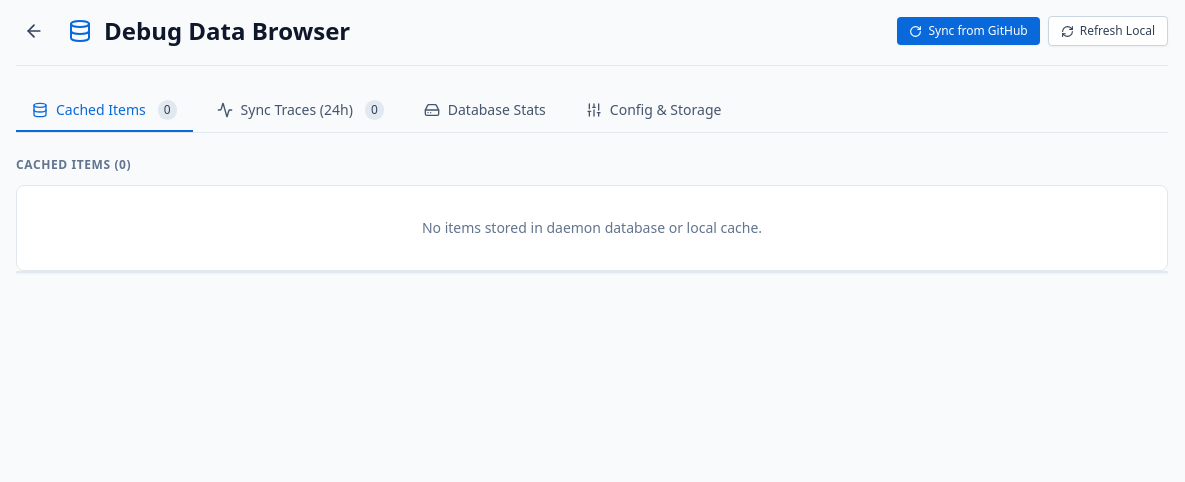
Test: DataBrowser › switches to Config & Storage tab when clicked
The image size is (1185, 482).
Click the button "Config & Storage": {"x": 654, "y": 111} [570, 90, 737, 132]
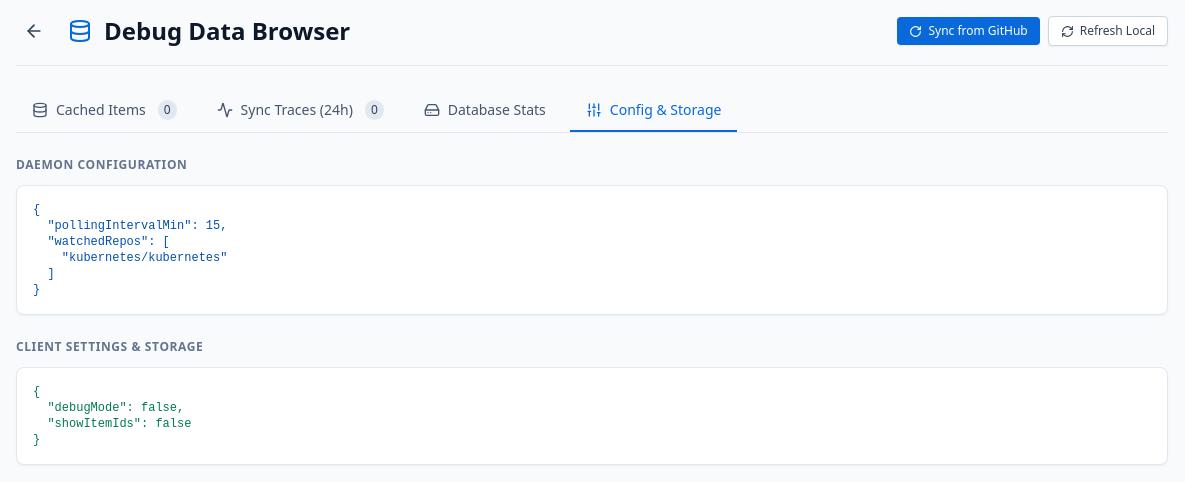
Result: the heading "Daemon Configuration" is shown at [16, 156, 187, 173]
Result: the heading "Client Settings & Storage" is shown at [16, 338, 203, 355]
